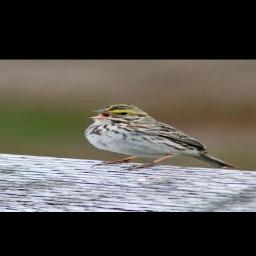Sparrow: (82, 101, 234, 172)
